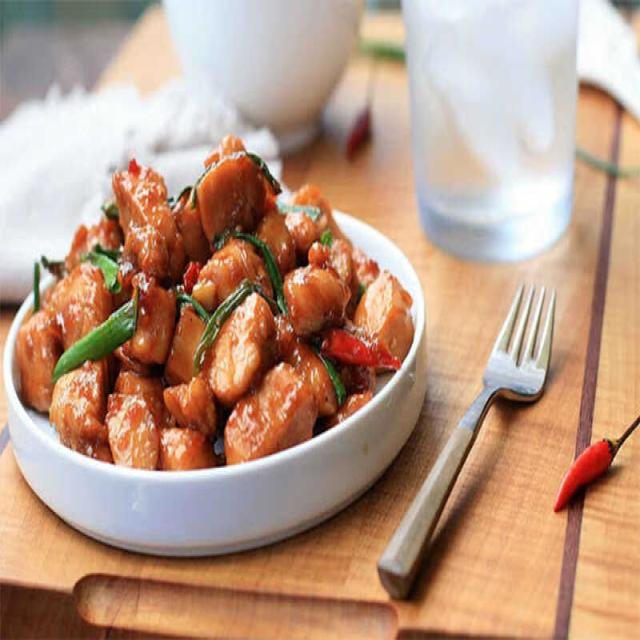ga kho: (15, 137, 414, 471)
